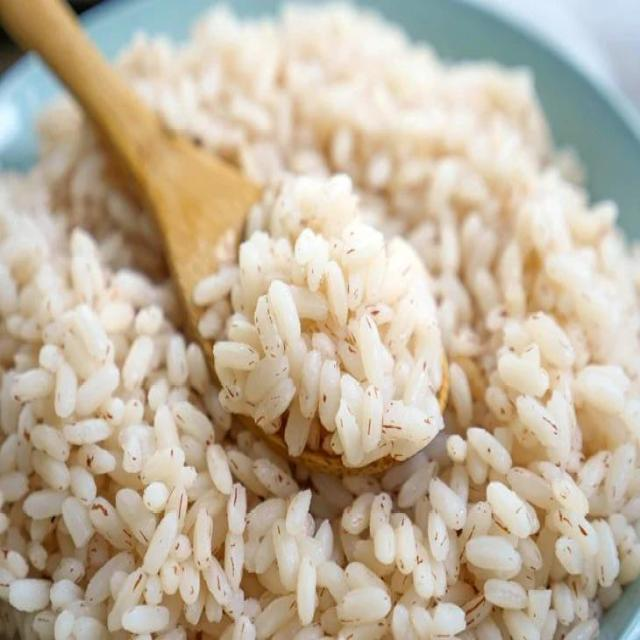rice: (4, 10, 640, 638)
